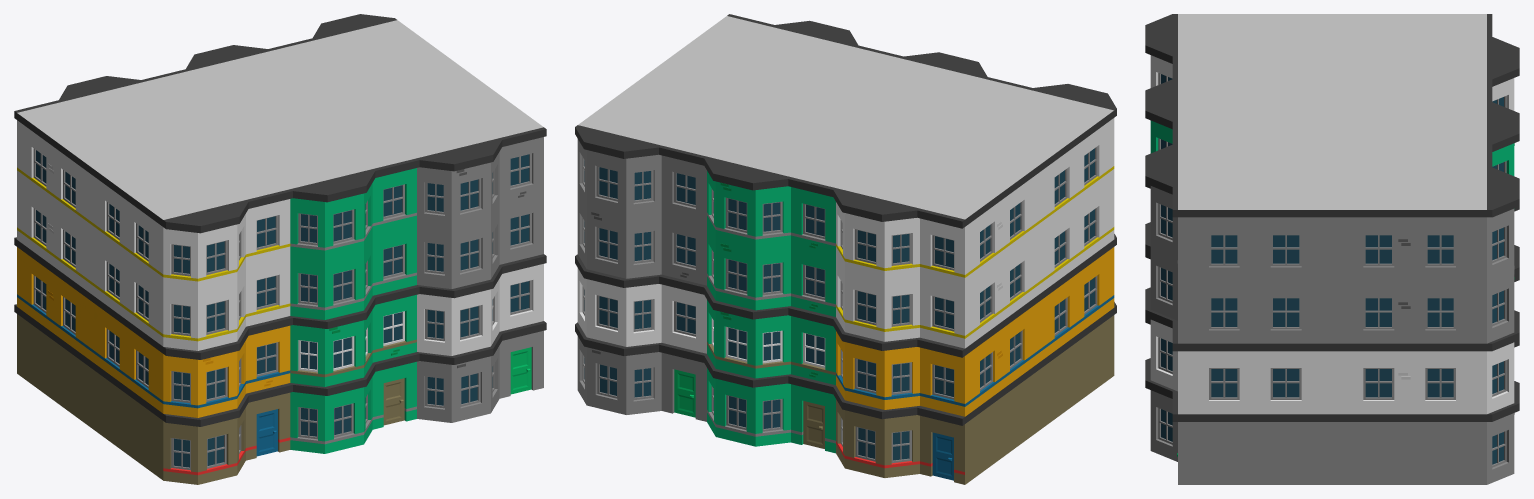
The picture shows the model from 3 angles, left to right: view 1: azimuth 30°, elevation 25°; view 2: azimuth 150°, elevation 25°; view 3: azimuth 270°, elevation 25°; orthographic projection. The views are drawn at different scales.
Visible parts, largest first — view 1: Building; view 2: Building; view 3: Building.
Part boxes in pixels (left/top/right/bottom): Building: left=14, top=14, right=546, bottom=484; Building: left=575, top=14, right=1116, bottom=484; Building: left=1145, top=14, right=1519, bottom=484.
Size of what is drawn, in the model's own units: 19.46 by 12.73 by 15.7.
